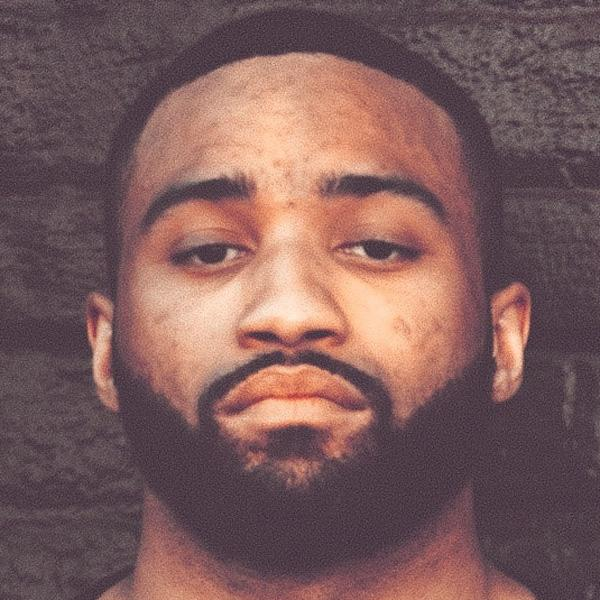Eyes: (159, 217, 262, 285), (325, 218, 428, 282)
